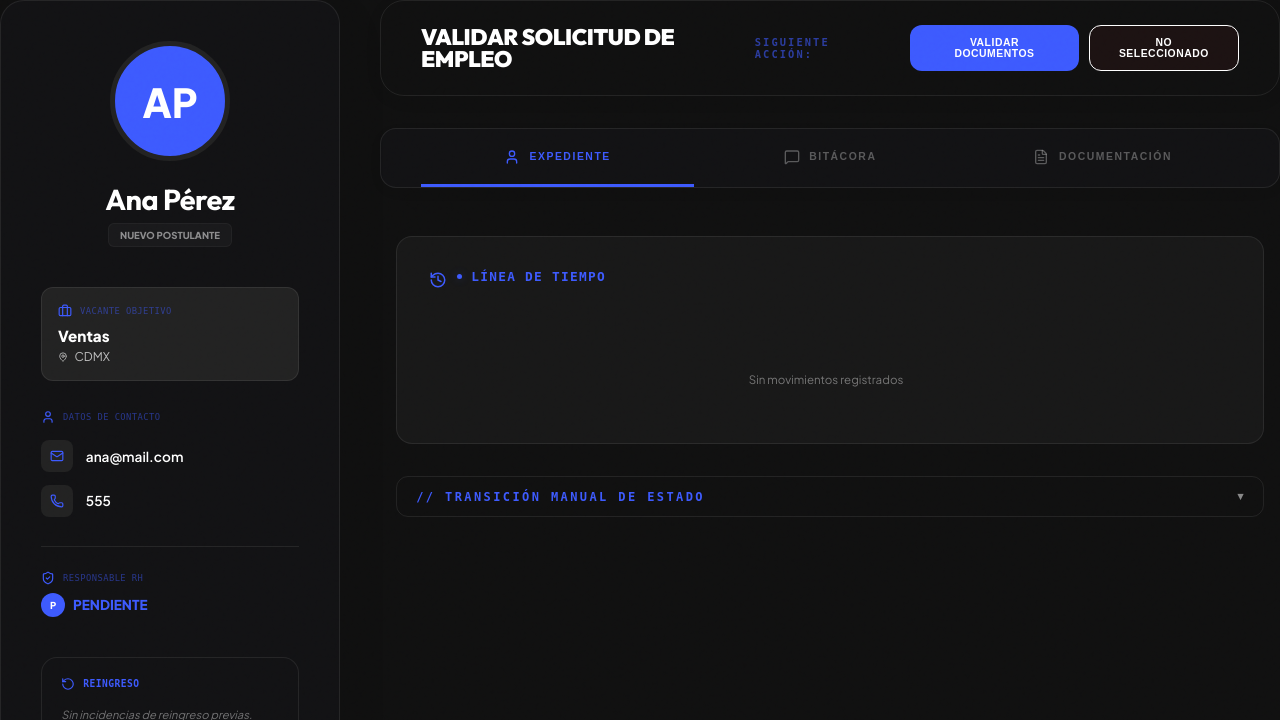
Test: CrmApplicationDetail › cambia a pestaña BITÁCORA
This screenshot has width=1280, height=720.
Expected: the heading "Ana Pérez" is shown, [105,181,235,217]
Click the button "BITÁCORA": (830, 158) [694,129,966,187]
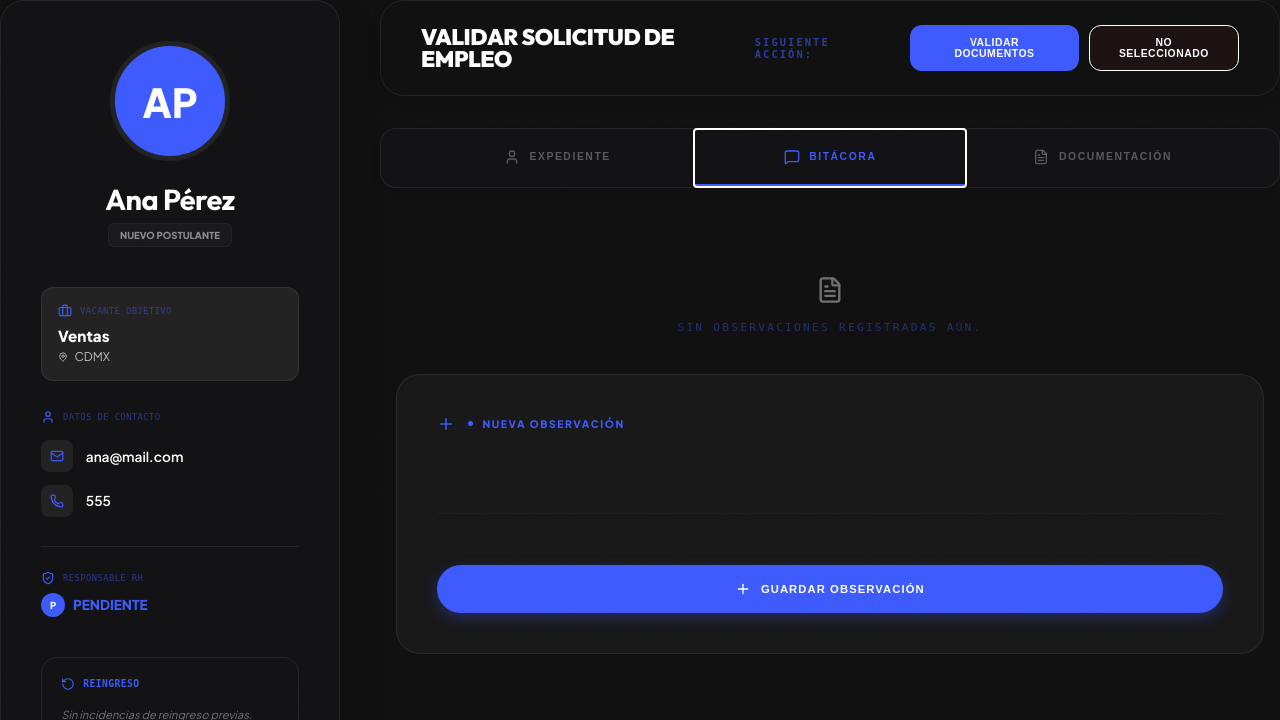
Expected: the text "Sin observaciones registradas aún." is shown, [677,320,983,334]
